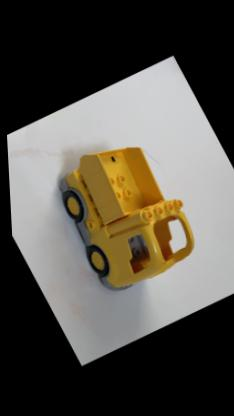yellow dump truck: (39, 126, 209, 300)
